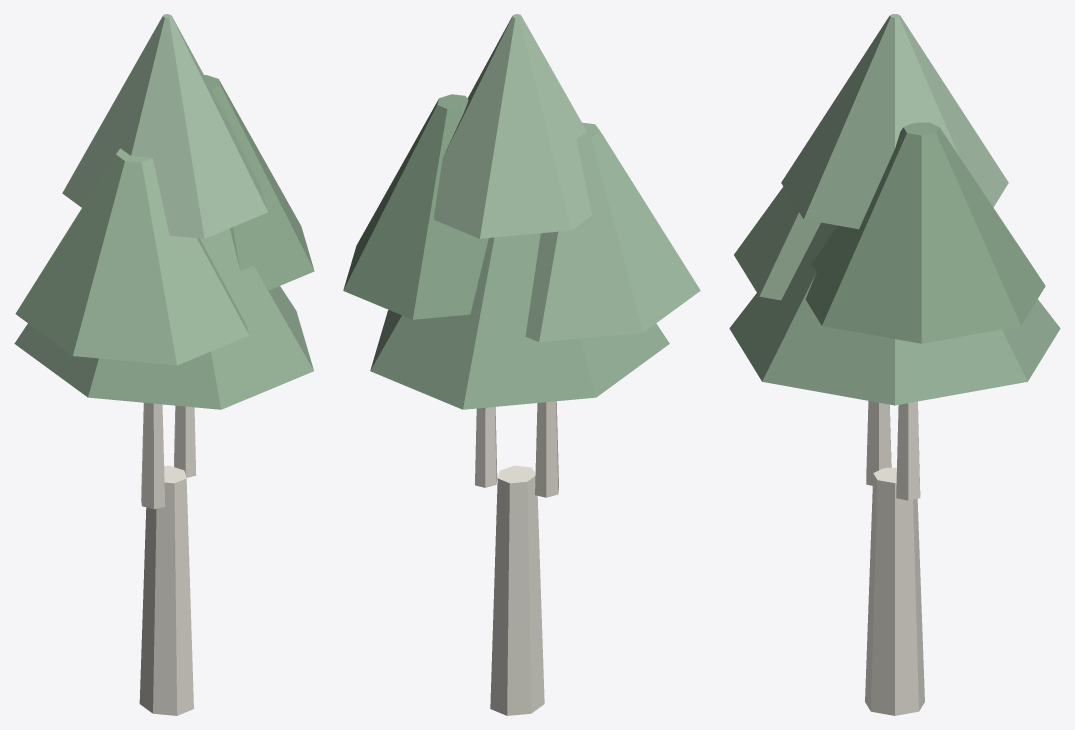
File: flora_15_melaleuca_tram_co_thu_avenue_tree.glb
3 views of the same model, side by side, from view 1: azimuth 30°, elevation 25°; view 2: azimuth 150°, elevation 25°; view 3: azimuth 270°, elevation 25° (orthographic).
Parts seen in each view (by area): view 1: flora_15_melaleuca_tram_co_thu_avenue_tree; view 2: flora_15_melaleuca_tram_co_thu_avenue_tree; view 3: flora_15_melaleuca_tram_co_thu_avenue_tree.
Part boxes in pixels (left/top/right/bottom): flora_15_melaleuca_tram_co_thu_avenue_tree: left=14, top=14, right=314, bottom=715; flora_15_melaleuca_tram_co_thu_avenue_tree: left=343, top=14, right=700, bottom=715; flora_15_melaleuca_tram_co_thu_avenue_tree: left=729, top=14, right=1060, bottom=715.
Bounding box in the file's own units: 6.8 × 15.6 × 6.8.
